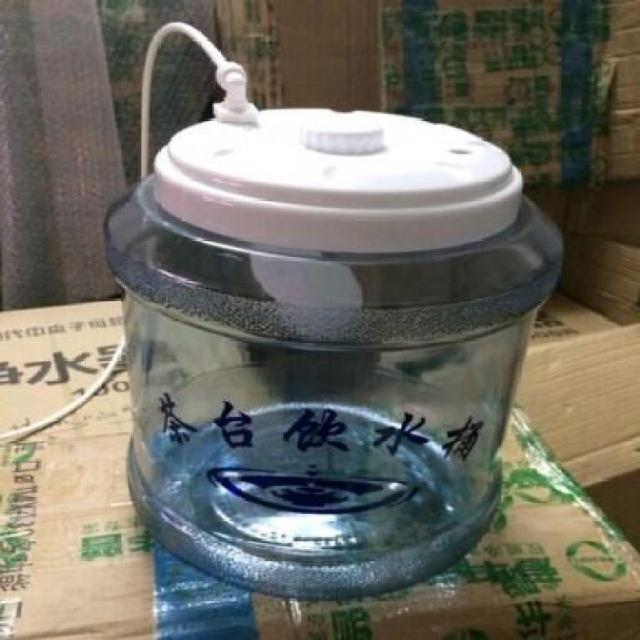coolerbottle: (98, 103, 570, 602)
